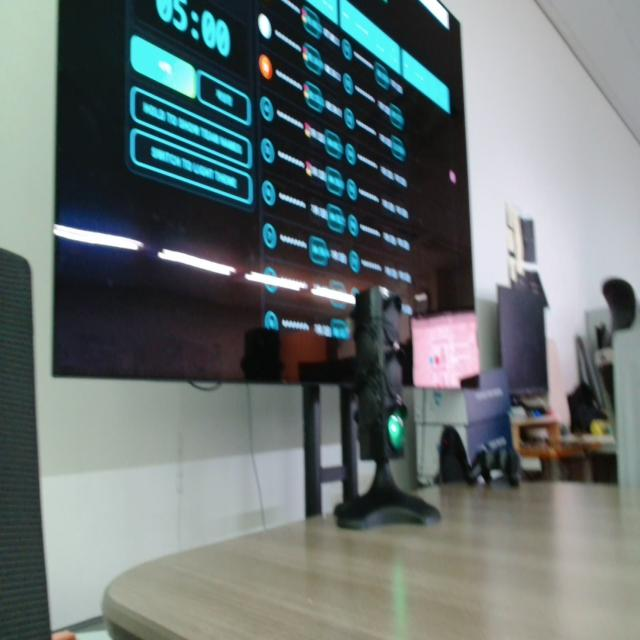green_light: (388, 413, 404, 452)
